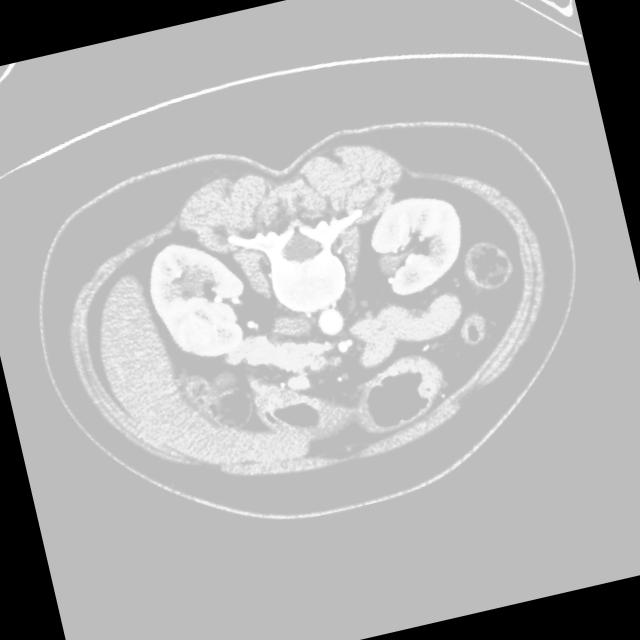TUMOR: (153, 168, 521, 438)
